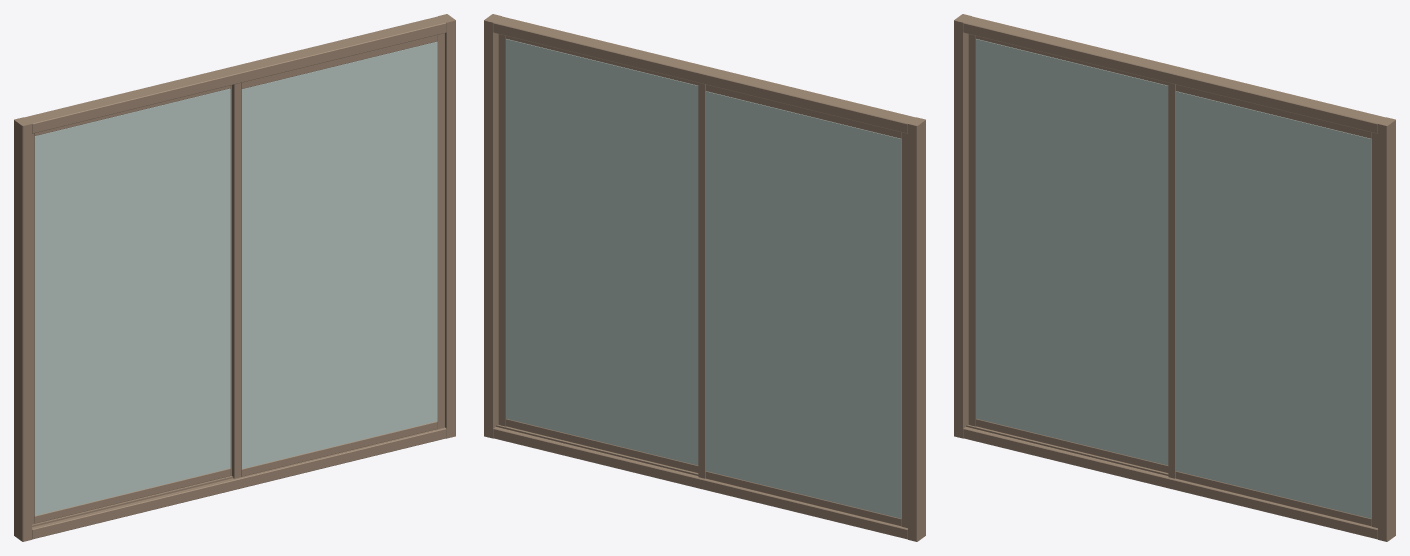
The model's file is co-S86RP-2-quartz-1019.glb.
The picture shows the model from 3 angles, left to right: view 1: azimuth 30°, elevation 25°; view 2: azimuth 150°, elevation 25°; view 3: azimuth 330°, elevation 25°; orthographic projection.
Visible parts, largest first — view 1: verre, structure; view 2: verre, structure; view 3: verre, structure.
Part boxes in pixels (x1,y1,x2,y2): verre: (34, 41, 437, 515); structure: (14, 14, 455, 541); verre: (506, 39, 901, 518); structure: (484, 14, 925, 541); verre: (976, 39, 1371, 518); structure: (954, 14, 1395, 541).
Size of the model in its own units: 2.4 by 2.2 by 0.086.
